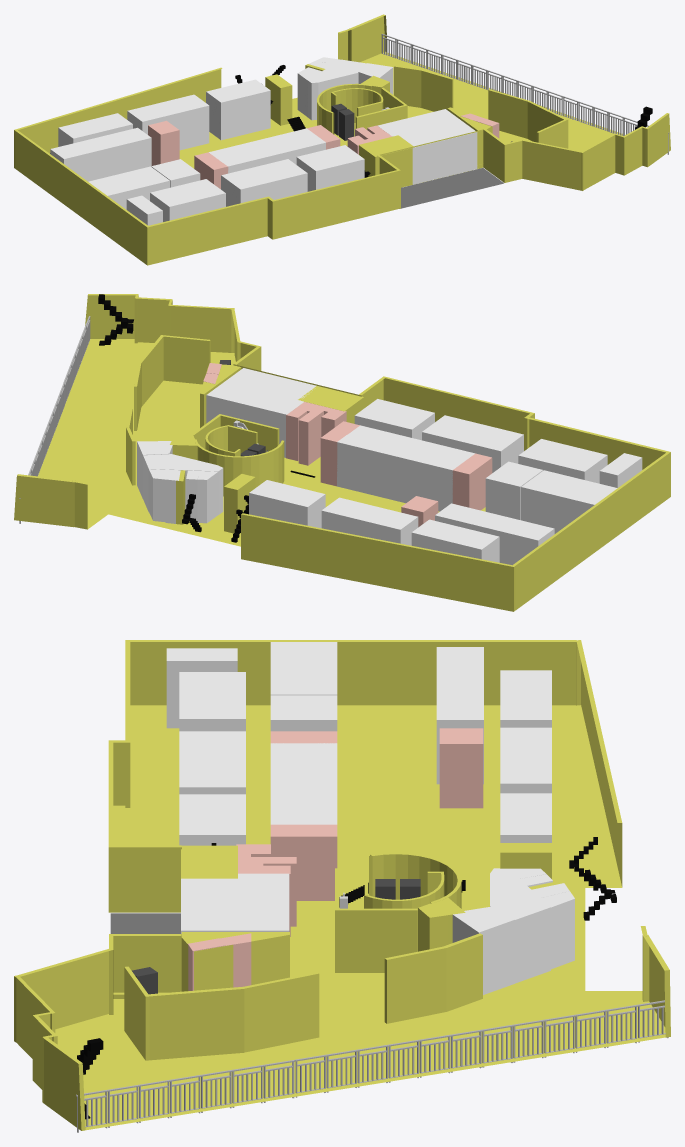
3 views of the same model, one above another, from view 1: azimuth 30°, elevation 25°; view 2: azimuth 150°, elevation 25°; view 3: azimuth 270°, elevation 25° (orthographic). The views are drawn at different scales.
Parts seen in each view (by area): view 1: object, 管理課, 屋上, object_9_2.002, object_9_2.001, 国際交流センター, ゼミ95C, ゼミ95B, object_9_2, 9510, ゼミ95D, ゼミ95A (+35 smaller); view 2: object, 管理課, ゼミ95H, ゼミ95F, ゼミ95G, ゼミ95D, ゼミ95I, ゼミ95J, ゼミ95E, 女子トイレ_9_5_4, 国際交流センター, 相談室 (+39 smaller); view 3: object, 管理課, object_9_2.001, object_9_2, 国際交流センター, 男子トイレ_9_5_4, object_9_2.002, 多目的会議室, 女子トイレ_9_5_1, 9513, ゼミ95F, ゼミ95D (+30 smaller).
Part boxes in pixels (x1=…): object: x1=14, y1=14, x2=670, y2=265; 管理課: x1=378, y1=109, x2=477, y2=184; 屋上: x1=399, y1=168, x2=503, y2=208; object_9_2.002: x1=381, y1=33, x2=487, y2=89; object_9_2.001: x1=457, y1=60, x2=562, y2=115; 国際交流センター: x1=307, y1=59, x2=366, y2=120; ゼミ95C: x1=107, y1=127, x2=151, y2=173; ゼミ95B: x1=77, y1=135, x2=120, y2=180; object_9_2: x1=563, y1=96, x2=669, y2=154; 9510: x1=206, y1=88, x2=234, y2=140; ゼミ95D: x1=88, y1=173, x2=144, y2=209; ゼミ95A: x1=50, y1=142, x2=91, y2=181; object: x1=14, y1=294, x2=670, y2=611; 管理課: x1=206, y1=368, x2=318, y2=457; ゼミ95H: x1=390, y1=438, x2=444, y2=503; ゼミ95F: x1=485, y1=461, x2=543, y2=520; ゼミ95G: x1=420, y1=446, x2=474, y2=511; ゼミ95D: x1=551, y1=478, x2=617, y2=533; ゼミ95I: x1=364, y1=432, x2=412, y2=499; ゼミ95J: x1=337, y1=425, x2=386, y2=492; ゼミ95E: x1=521, y1=470, x2=575, y2=527; 女子トイレ_9_5_4: x1=452, y1=453, x2=492, y2=510; 国際交流センター: x1=143, y1=454, x2=223, y2=514; 相談室: x1=186, y1=470, x2=218, y2=523; object: x1=14, y1=640, x2=670, y2=1130; 管理課: x1=181, y1=873, x2=289, y2=933; object_9_2.001: x1=295, y1=1025, x2=513, y2=1097; object_9_2: x1=76, y1=1060, x2=294, y2=1132; 国際交流センター: x1=490, y1=868, x2=550, y2=983; 男子トイレ_9_5_4: x1=270, y1=824, x2=337, y2=900; object_9_2.002: x1=451, y1=1000, x2=668, y2=1067; 多目的会議室: x1=452, y1=906, x2=514, y2=994; 女子トイレ_9_5_1: x1=439, y1=736, x2=483, y2=808; 9513: x1=166, y1=648, x2=237, y2=728; ゼミ95F: x1=270, y1=695, x2=337, y2=731; ゼミ95D: x1=270, y1=642, x2=337, y2=673.
Bounding box in the file's own units: 2.43 × 0.216 × 1.58.
